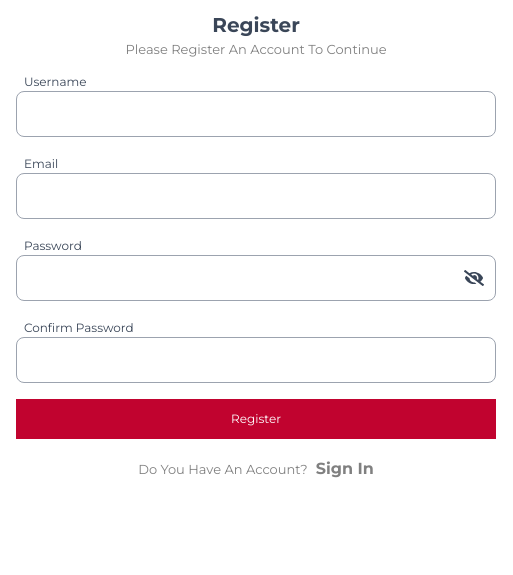
Test case: AuthFrom › Behavior › should display error message on submit without values
Expected: the field named "username" is shown, [16, 91, 496, 137]
Step 1. Click the button with aria-label "submit-button" → (256,419), box [16, 399, 496, 439]
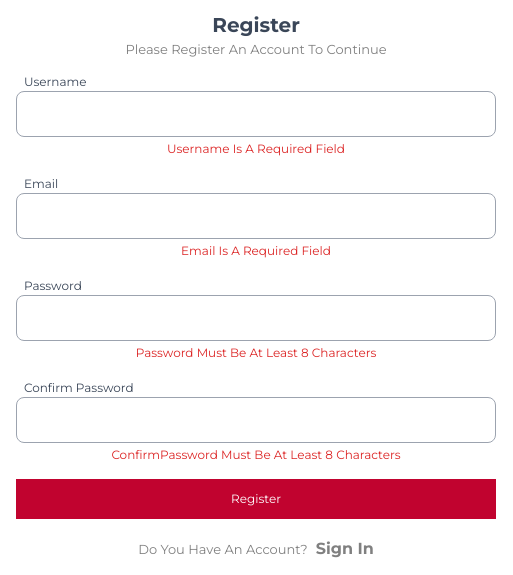
Result: the message named "error-message" is shown at [167, 141, 345, 156]
